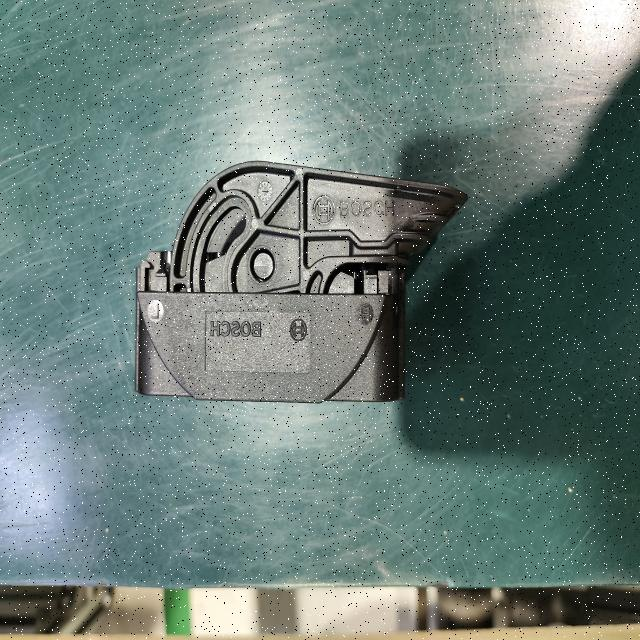P38: (135, 163, 466, 403)
